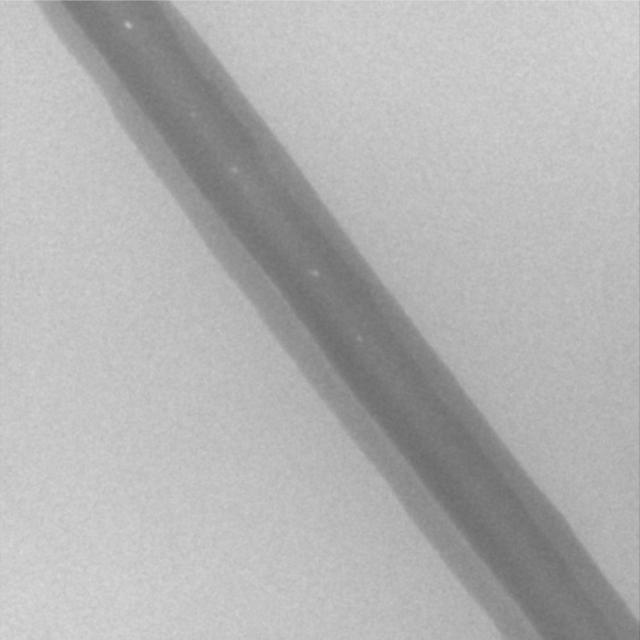air hole: (228, 165, 238, 176), (123, 20, 133, 31), (310, 267, 319, 279), (355, 333, 363, 343)
